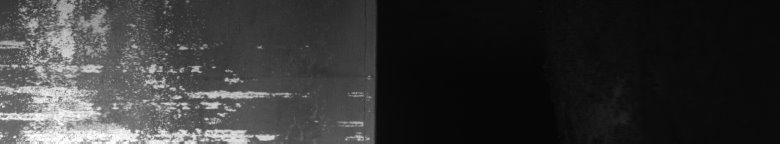kb: (4, 4, 364, 136)
